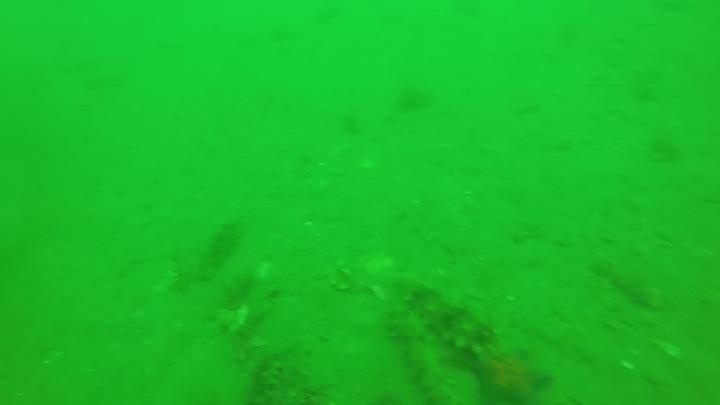holothurian: (401, 283, 498, 359), (384, 302, 454, 402), (191, 215, 244, 283), (244, 354, 287, 404)
starfish: (463, 344, 553, 405)
